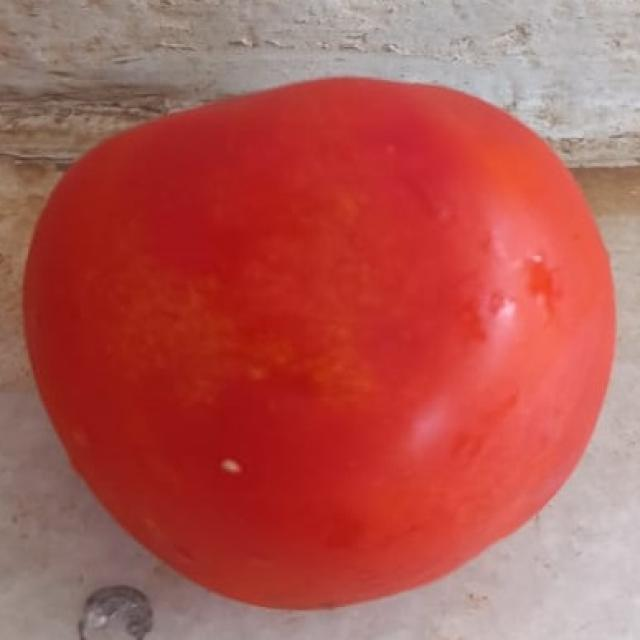ripe tomato: (19, 32, 629, 609)
